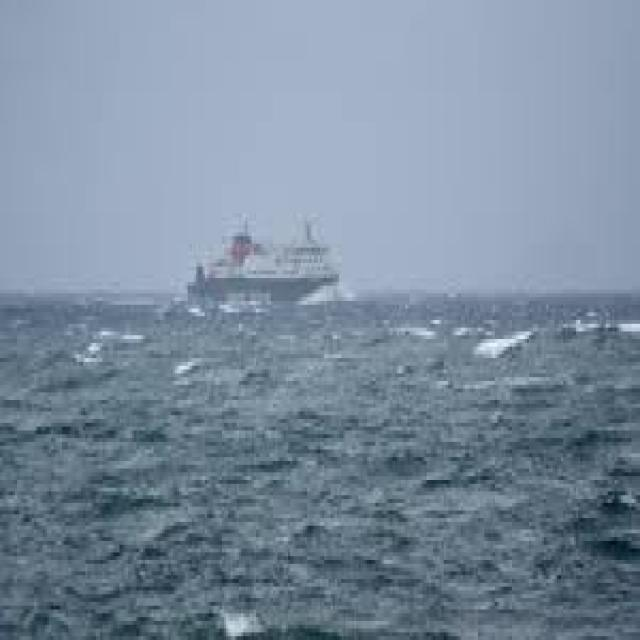cargoship: (176, 228, 371, 344)
